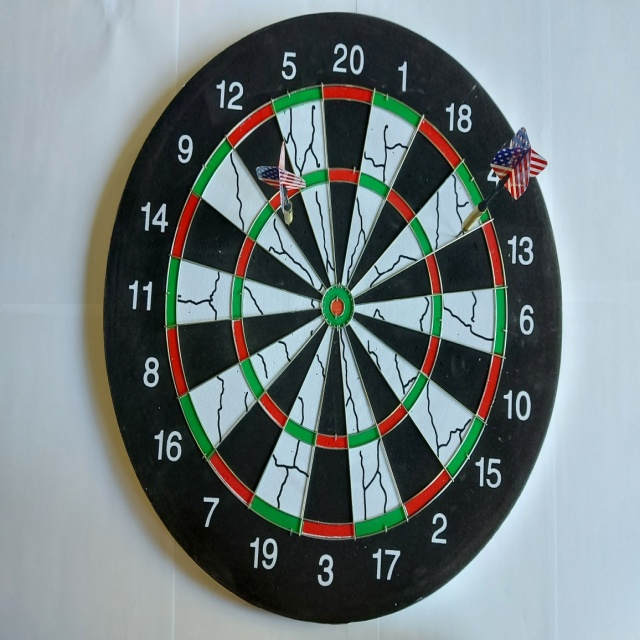Dart: (450, 124, 553, 246), (249, 136, 309, 234)
